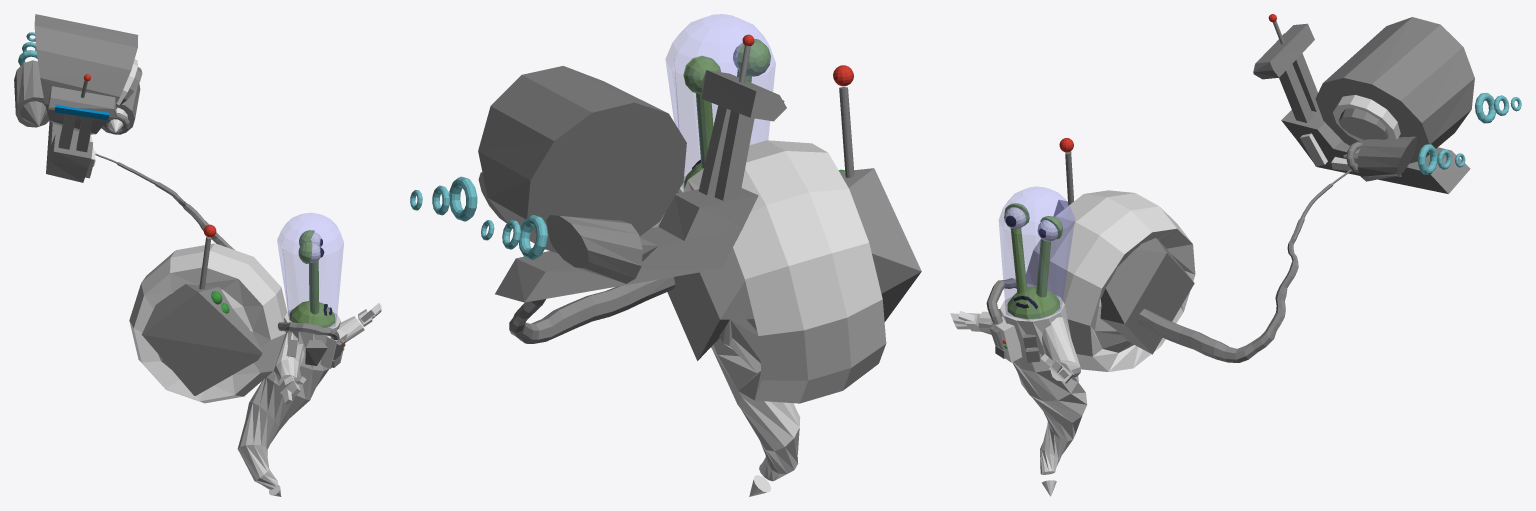
File: csiga.gltf
3 views of the same model, side by side, from view 1: azimuth 30°, elevation 25°; view 2: azimuth 150°, elevation 25°; view 3: azimuth 270°, elevation 25° (orthographic). The views are drawn at different scales.
Parts seen in each view (by area): view 1: node_MeshObject118153216-PolyPaper21, node_MeshObject690232320-PolyGlass24; view 2: node_MeshObject118153216-PolyPaper21, node_MeshObject690232320-PolyGlass24; view 3: node_MeshObject118153216-PolyPaper21, node_MeshObject690232320-PolyGlass24.
Boxes of the visible parts, x1=… form: node_MeshObject118153216-PolyPaper21: x1=14, y1=14, x2=381, y2=496; node_MeshObject690232320-PolyGlass24: x1=277, y1=213, x2=343, y2=327; node_MeshObject118153216-PolyPaper21: x1=410, y1=34, x2=921, y2=496; node_MeshObject690232320-PolyGlass24: x1=665, y1=14, x2=775, y2=189; node_MeshObject118153216-PolyPaper21: x1=950, y1=14, x2=1521, y2=496; node_MeshObject690232320-PolyGlass24: x1=999, y1=186, x2=1074, y2=320.
Bounding box in the file's own units: 1.48 × 2.27 × 2.73.
